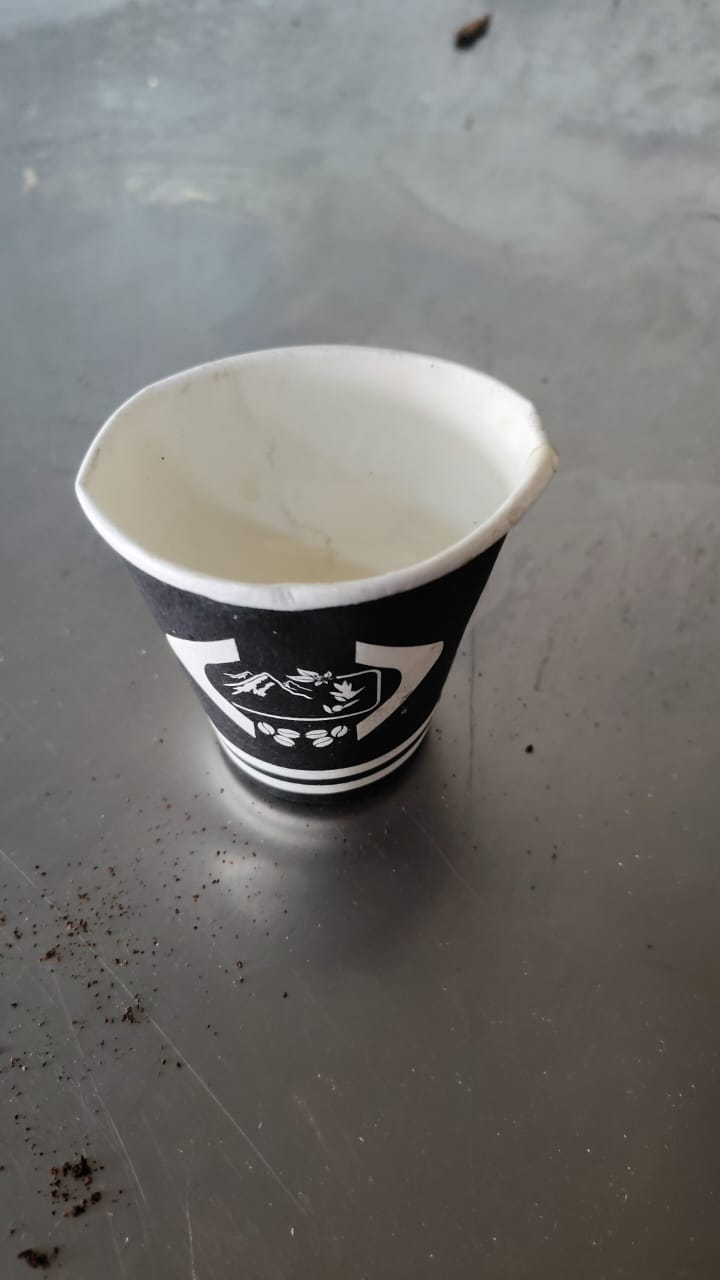Carton: (73, 345, 557, 816)
